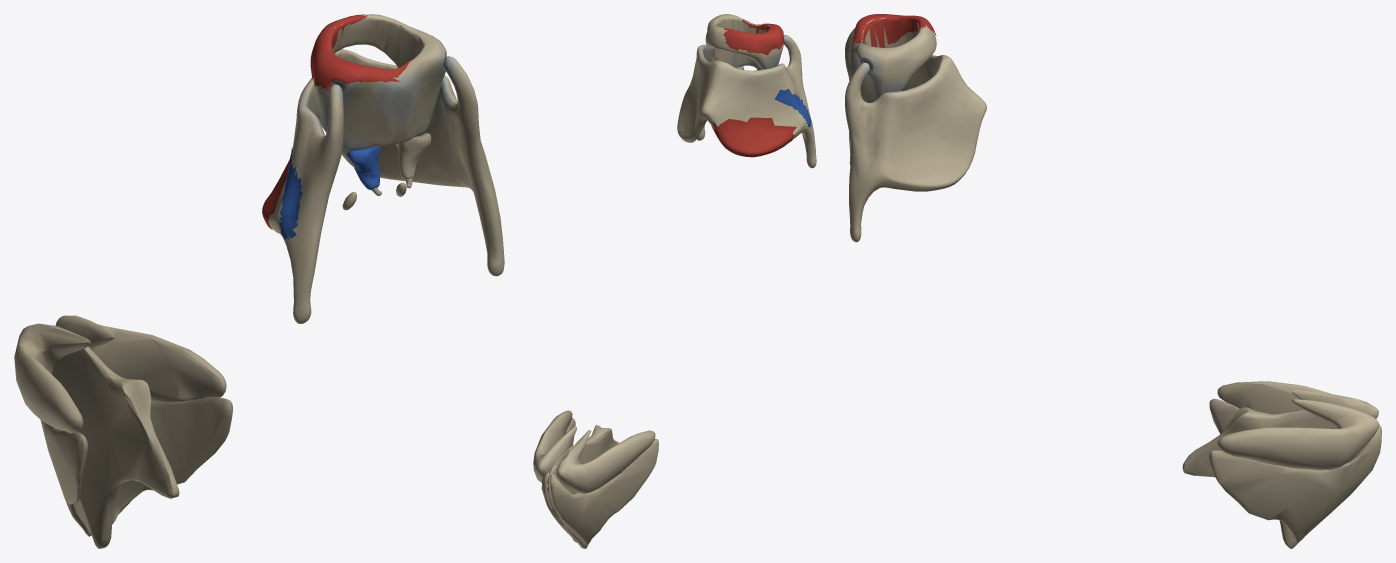
The model's file is cartilagines-laryngis-nasi.glb.
3 views of the same model, side by side, from view 1: azimuth 30°, elevation 25°; view 2: azimuth 150°, elevation 25°; view 3: azimuth 270°, elevation 25° (orthographic). The views are drawn at different scales.
Visible parts, largest first — view 1: FJ2808, FJ2557, FJ2769, FJ2555, FJ2556, FJ2554, origo__cricoidea__m-cricoarytenoideus-posterior, FJ2558, insertio__thyroidea__FJ1597, insertio__arytenoidea-nasi__m-cricoarytenoideus-lateralis, FJ2775; view 2: FJ2808, FJ2558, FJ2554, origo__thyroidea__m-thyroarytenoideus, FJ2769, FJ2555, FJ2557, origo__cricoidea__m-cricoarytenoideus-posterior, insertio__thyroidea__FJ1597, FJ2556; view 3: FJ2808, FJ2556, FJ2555, FJ2769, FJ2554, FJ2557, origo__cricoidea__m-cricoarytenoideus-posterior.
Part boxes in pixels (left/top/right/bottom): FJ2808: left=269, top=49, right=504, bottom=323; FJ2557: left=52, top=346, right=179, bottom=548; FJ2769: left=313, top=14, right=446, bottom=150; FJ2555: left=55, top=315, right=226, bottom=403; FJ2556: left=112, top=397, right=232, bottom=523; FJ2554: left=14, top=323, right=90, bottom=433; origo__cricoidea__m-cricoarytenoideus-posterior: left=310, top=14, right=411, bottom=92; FJ2558: left=40, top=419, right=91, bottom=536; insertio__thyroidea__FJ1597: left=279, top=148, right=302, bottom=239; insertio__arytenoidea-nasi__m-cricoarytenoideus-lateralis: left=347, top=146, right=380, bottom=189; FJ2775: left=396, top=133, right=431, bottom=179; FJ2808: left=677, top=35, right=816, bottom=168; FJ2558: left=550, top=439, right=658, bottom=544; FJ2554: left=556, top=429, right=655, bottom=493; origo__thyroidea__m-thyroarytenoideus: left=711, top=117, right=796, bottom=157; FJ2769: left=705, top=14, right=783, bottom=70; FJ2555: left=533, top=410, right=576, bottom=483; FJ2557: left=547, top=425, right=619, bottom=548; origo__cricoidea__m-cricoarytenoideus-posterior: left=723, top=19, right=784, bottom=55; insertio__thyroidea__FJ1597: left=774, top=88, right=811, bottom=127; FJ2556: left=541, top=418, right=576, bottom=542; FJ2808: left=845, top=27, right=986, bottom=242; FJ2556: left=1209, top=426, right=1381, bottom=542; FJ2555: left=1217, top=399, right=1378, bottom=470; FJ2769: left=850, top=23, right=936, bottom=102; FJ2554: left=1217, top=381, right=1378, bottom=418; FJ2557: left=1182, top=407, right=1367, bottom=548; origo__cricoidea__m-cricoarytenoideus-posterior: left=853, top=14, right=936, bottom=47.
Bounding box in the file's own units: 38.66 × 126 × 117.
